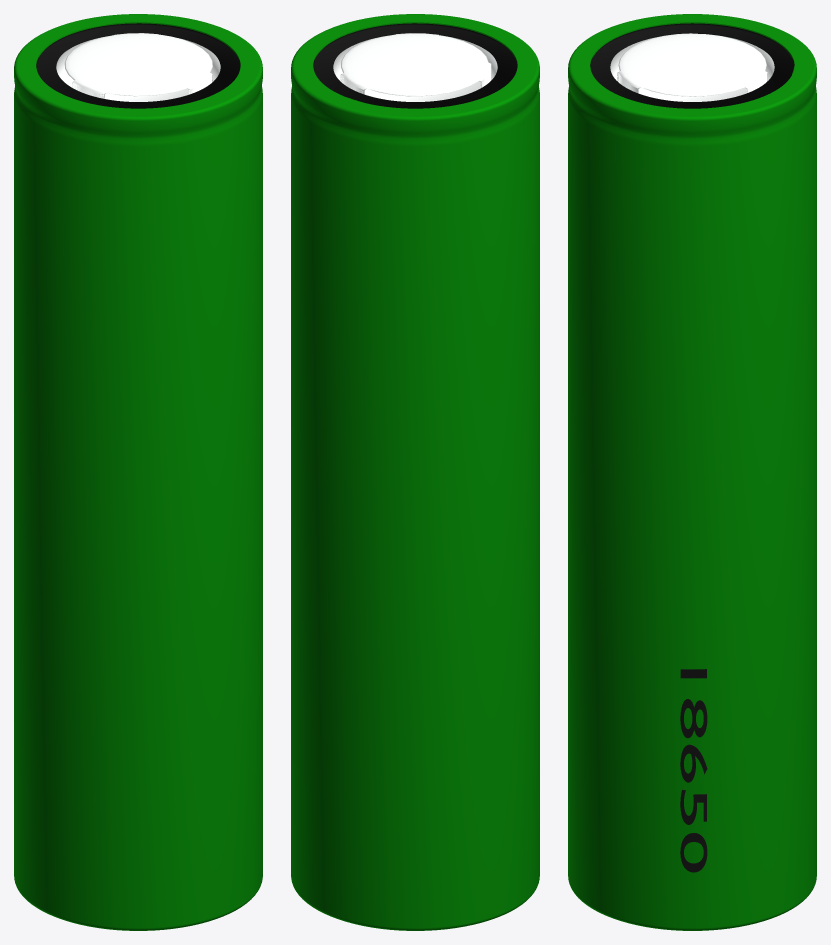
The model's file is battery_18650.glb.
3 renders of one model, left to right at view 1: azimuth 30°, elevation 25°; view 2: azimuth 150°, elevation 25°; view 3: azimuth 270°, elevation 25°, orthographic.
Parts seen in each view (by area): view 1: Cylinder_2; view 2: Cylinder_2; view 3: Cylinder_2, Object_8.
Part boxes in pixels (<box>): Cylinder_2: <box>14,14,262,930</box>; Cylinder_2: <box>291,14,539,930</box>; Cylinder_2: <box>568,14,816,930</box>; Object_8: <box>680,669,707,872</box>.
Bounding box in the file's own units: 0.0181 × 0.0653 × 0.018.
